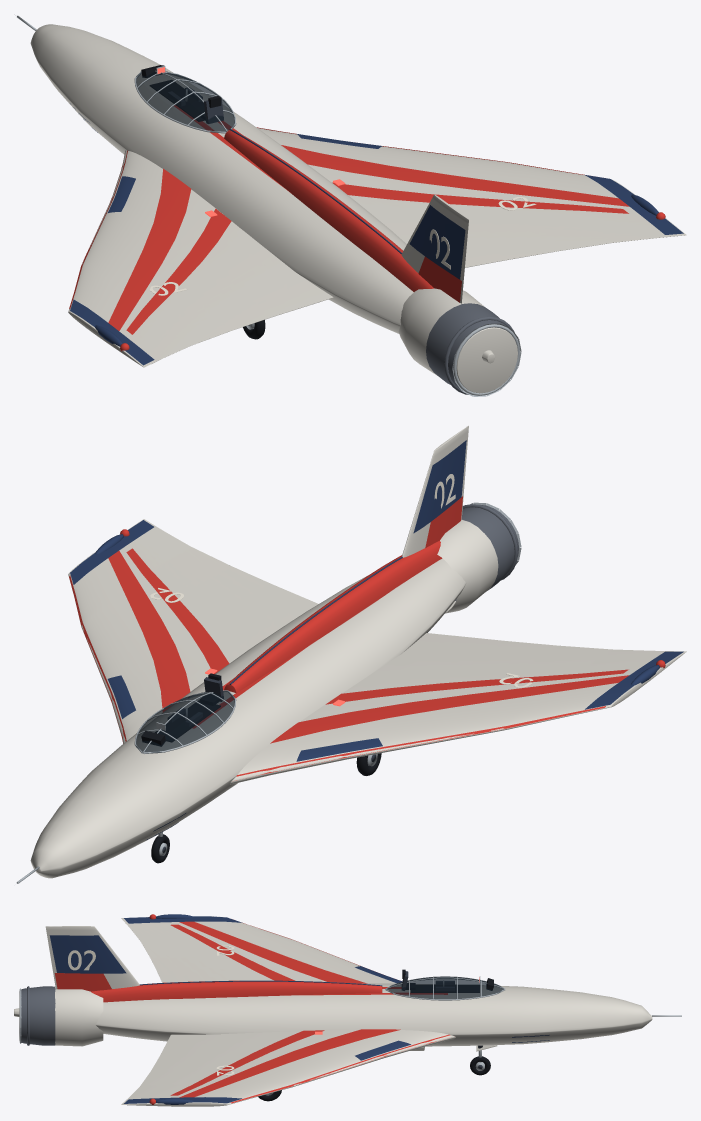
File: showcase.glb
3 renders of one model, top to bottom at view 1: azimuth 30°, elevation 25°; view 2: azimuth 150°, elevation 25°; view 3: azimuth 270°, elevation 25°, orthographic. The views are drawn at different scales.
Visible parts, largest first — view 1: showcase_body_Paint_Base, showcase_body_Paint_Secondary, showcase_body_Paint_Accent, showcase_body_Canopy_Glass, showcase_body_Metal_Heat, showcase_body_Metal_Detail, showcase_body_Paint_Dark, showcase_body_Paint_Marking; view 2: showcase_body_Paint_Base, showcase_body_Paint_Secondary, showcase_body_Paint_Accent, showcase_body_Canopy_Glass, showcase_body_Metal_Heat, showcase_body_Metal_Detail, showcase_body_Paint_Dark, showcase_gear_Paint_Dark; view 3: showcase_body_Paint_Base, showcase_body_Paint_Secondary, showcase_body_Paint_Accent, showcase_body_Metal_Heat, showcase_body_Canopy_Glass, showcase_body_Metal_Detail, showcase_body_Paint_Dark, showcase_body_Paint_Marking, showcase_gear_Paint_Dark.
Part boxes in pixels (x1,y1,x2,y2): showcase_body_Paint_Base: [30, 24, 686, 393]; showcase_body_Paint_Secondary: [69, 105, 665, 351]; showcase_body_Paint_Accent: [70, 103, 683, 365]; showcase_body_Canopy_Glass: [136, 71, 234, 132]; showcase_body_Metal_Heat: [426, 303, 514, 394]; showcase_body_Metal_Detail: [17, 15, 521, 396]; showcase_body_Paint_Dark: [141, 65, 221, 121]; showcase_body_Paint_Marking: [149, 197, 536, 295]; showcase_body_Paint_Base: [30, 425, 686, 878]; showcase_body_Paint_Secondary: [69, 496, 665, 780]; showcase_body_Paint_Accent: [70, 440, 683, 839]; showcase_body_Canopy_Glass: [136, 691, 234, 752]; showcase_body_Metal_Heat: [455, 504, 518, 600]; showcase_body_Metal_Detail: [16, 502, 521, 883]; showcase_body_Paint_Dark: [141, 673, 221, 746]; showcase_gear_Paint_Dark: [151, 753, 381, 863]; showcase_body_Paint_Base: [14, 916, 652, 1106]; showcase_body_Paint_Secondary: [54, 914, 450, 1104]; showcase_body_Paint_Accent: [49, 914, 549, 1104]; showcase_body_Metal_Heat: [21, 986, 55, 1045]; showcase_body_Canopy_Glass: [386, 976, 503, 999]; showcase_body_Metal_Detail: [19, 976, 681, 1047]; showcase_body_Paint_Dark: [402, 969, 493, 992]; showcase_body_Paint_Marking: [68, 945, 234, 1075]; showcase_gear_Paint_Dark: [258, 1056, 490, 1101].
Size of the model in its own units: 12.64 by 4.87 by 19.19.
